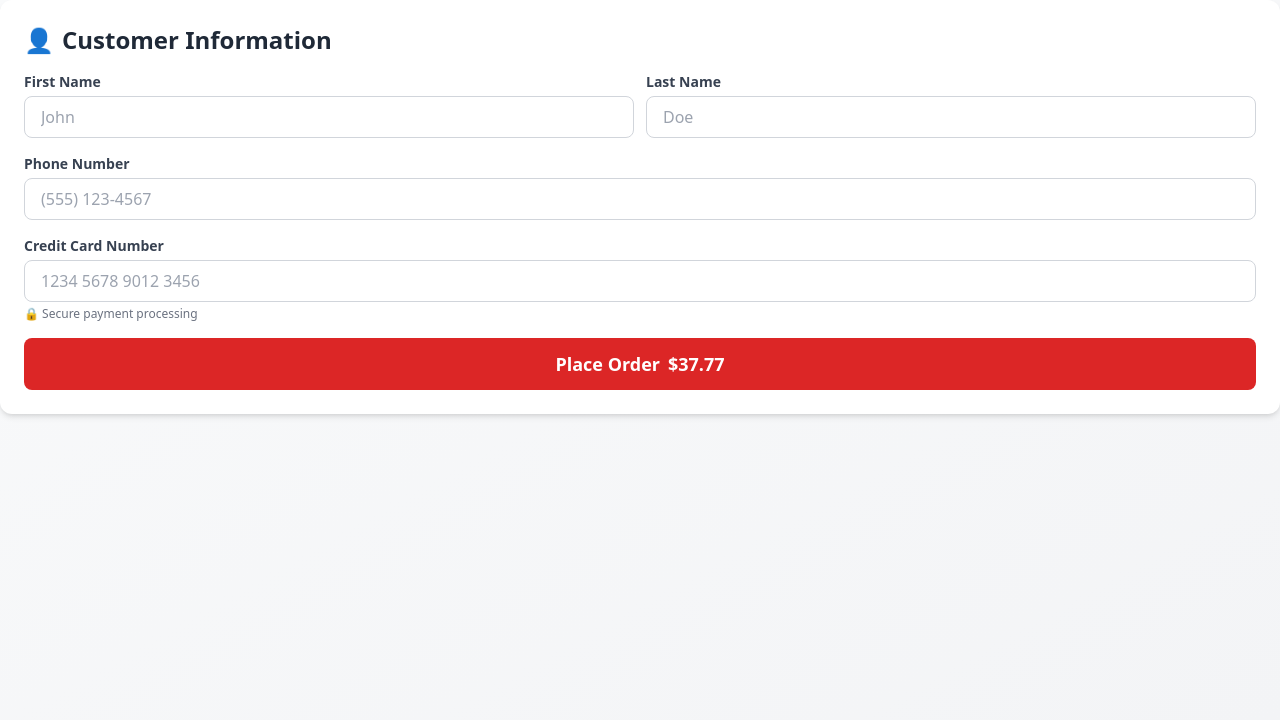
OrderForm Component › Form Validation - Success Cases › should format phone number during input
Type "5551234567" into the field labelled "Phone Number". click: (640, 199)
box: left=24, top=178, right=1256, bottom=220
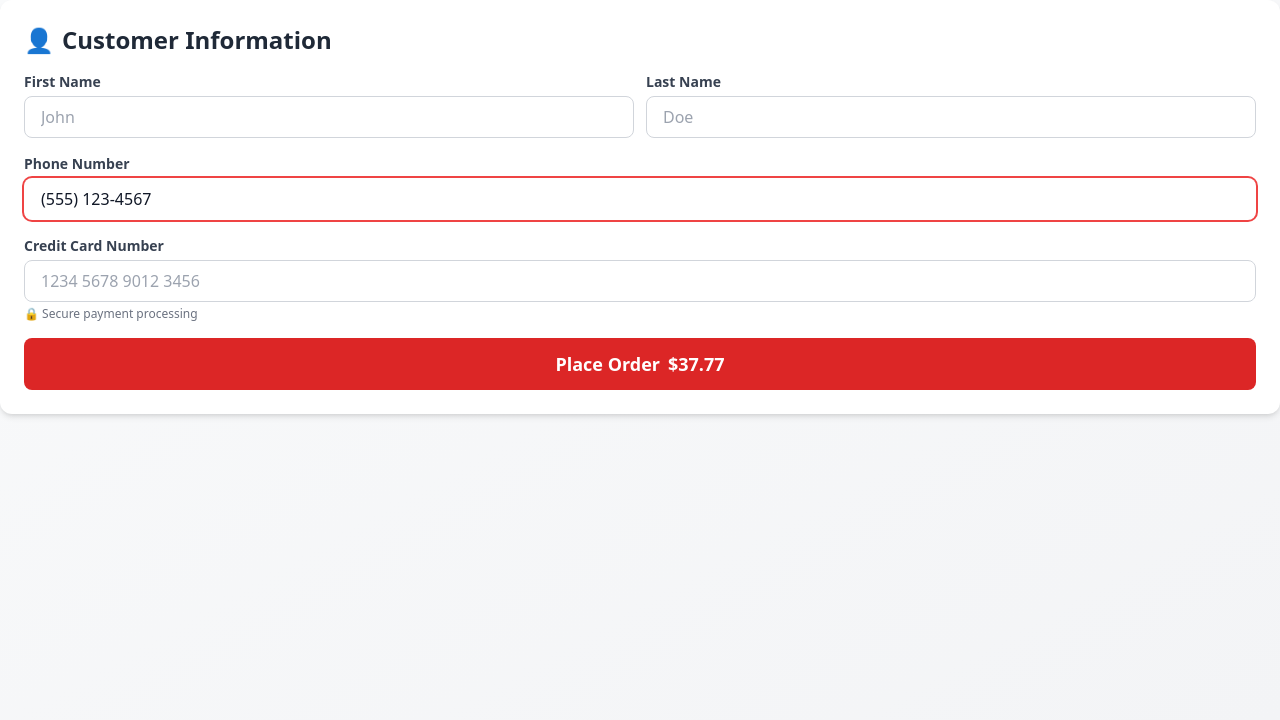
expect the field labelled "Phone Number" holds "(555) 123-4567": met, box left=24, top=178, right=1256, bottom=220
